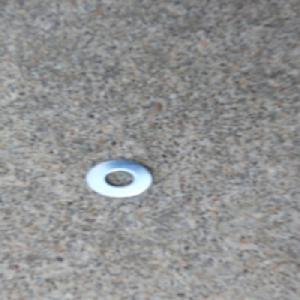Washer: (83, 157, 155, 200)
